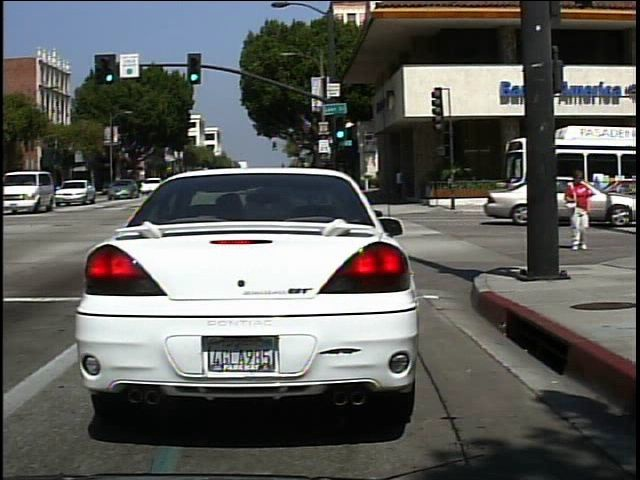person: (564, 170, 596, 252), (392, 166, 410, 204)
